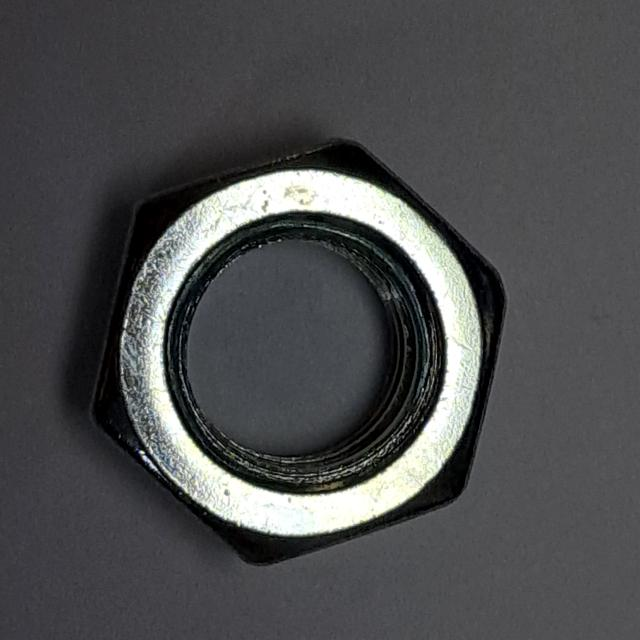Excellent: (77, 119, 524, 581)
